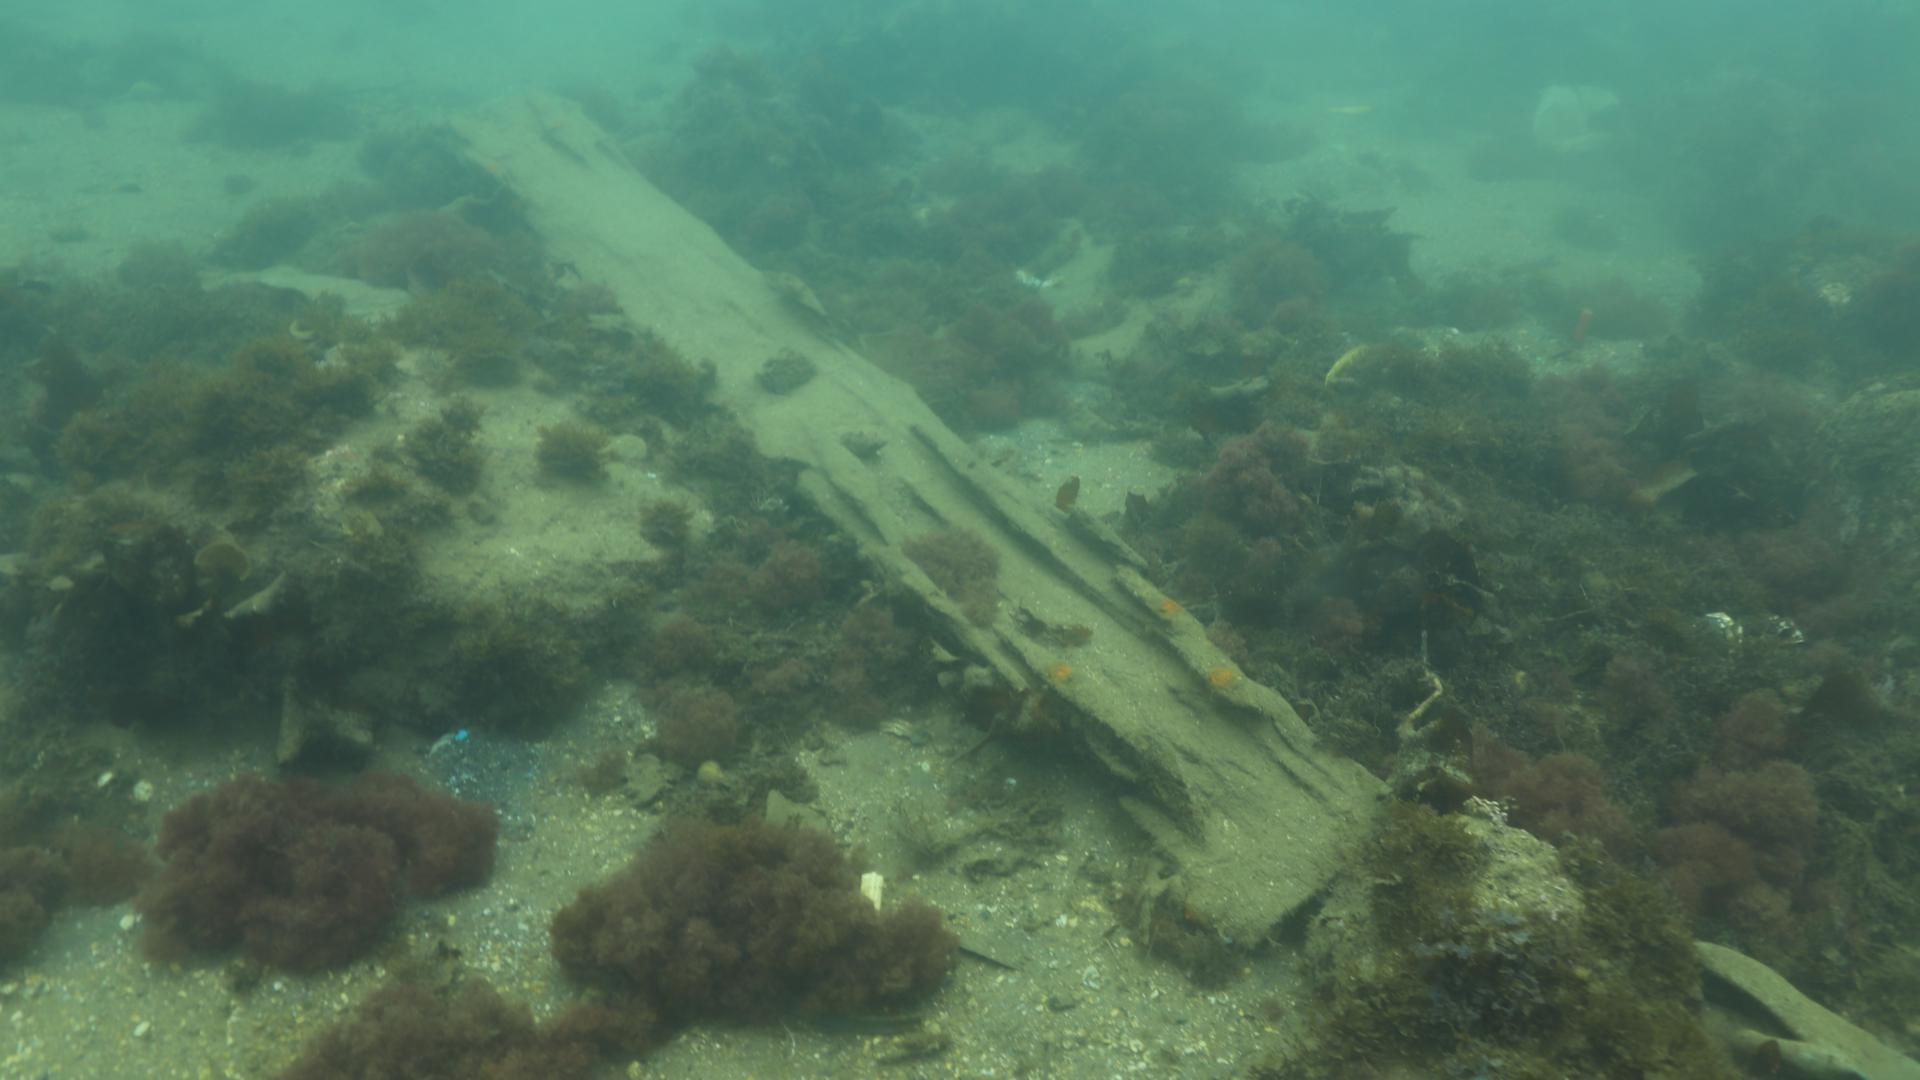wood: (448, 90, 1396, 949)
